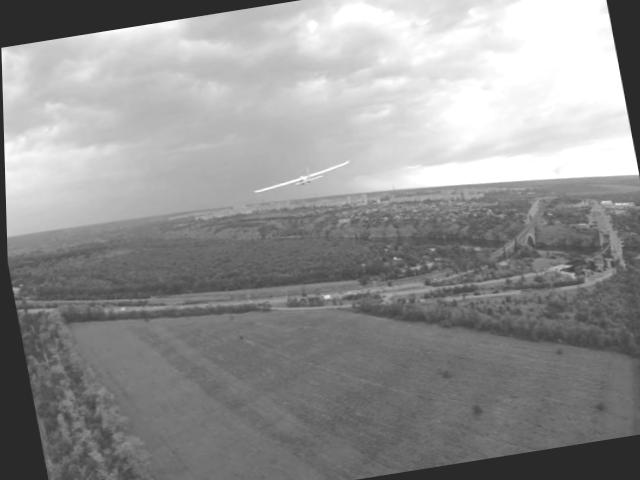hedef: (240, 144, 358, 218)
